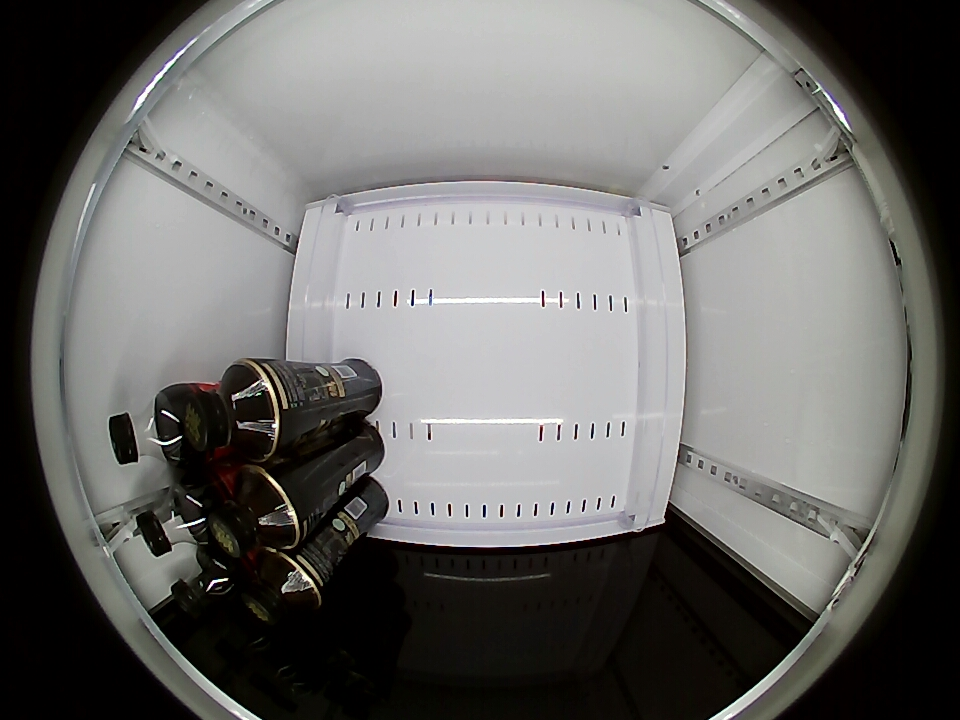lingdukele-b: (108, 388, 190, 467), (135, 478, 214, 557), (170, 549, 238, 613)
rancha-1: (180, 358, 282, 463), (208, 466, 301, 559), (239, 548, 325, 626)
